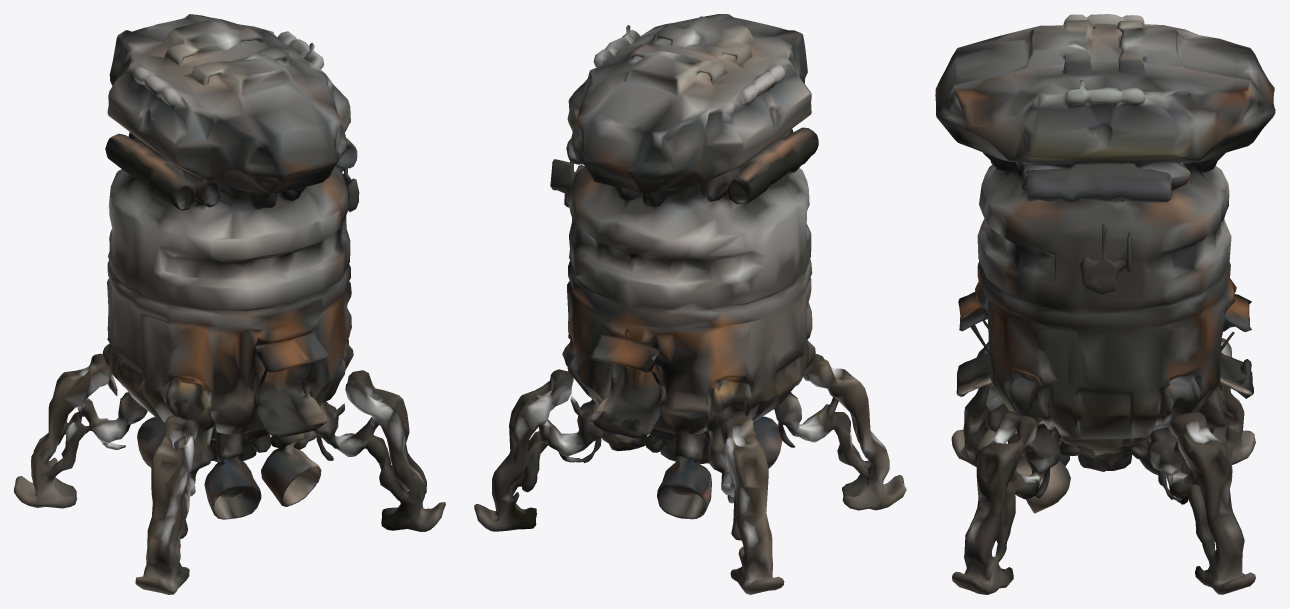
File: colony_ship.glb
3 renders of one model, left to right at view 1: azimuth 30°, elevation 25°; view 2: azimuth 150°, elevation 25°; view 3: azimuth 270°, elevation 25°, orthographic. The views are drawn at different scales.
Parts seen in each view (by area): view 1: ColonyShip; view 2: ColonyShip; view 3: ColonyShip.
Boxes of the visible parts, x1,y1,x2,y2 form: ColonyShip: (14, 14, 445, 594); ColonyShip: (474, 14, 906, 594); ColonyShip: (935, 14, 1275, 594).
Size of what is drawn, in the model's own units: 17.99 by 26.03 by 16.45.
